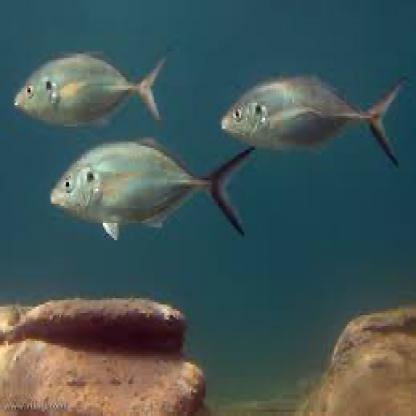Carangidae -Jacks-: (212, 61, 408, 173), (48, 130, 255, 235), (7, 35, 178, 134)
